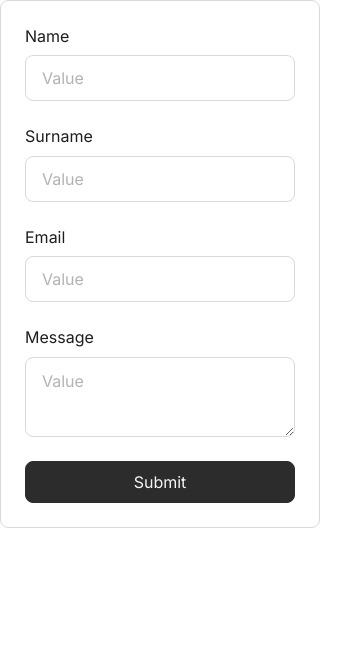
Test: ContactForm › 空フォームを送信すると全フィールドにエラーが表示される
Click the button "Submit".
click(160, 482)  # box [25,461,295,503]
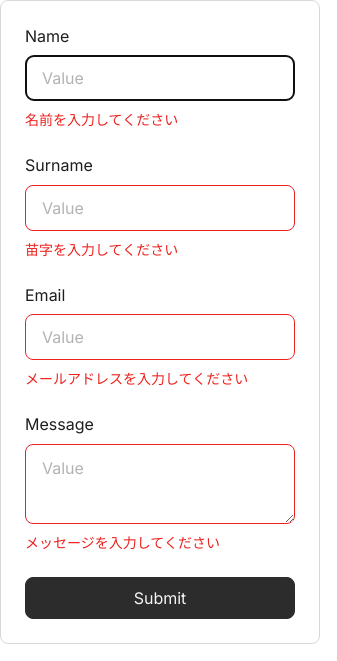
Check: the text "名前を入力してください" is shown, box [25,109,178,130]
Check: the text "苗字を入力してください" is shown, box [25,239,178,260]
Check: the text "メールアドレスを入力してください" is shown, box [25,368,248,389]
